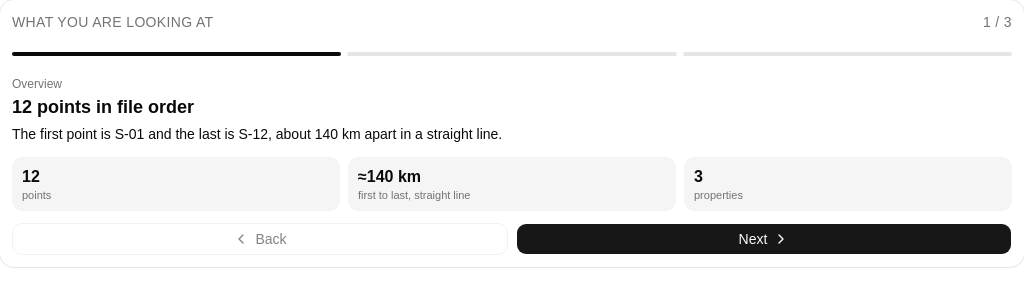
StoryPanel › cannot go back from the first chapter, and offers to start over after the last
This screenshot has width=1024, height=308.
Click the button "Next".
click(764, 239)  # box [516, 223, 1012, 255]
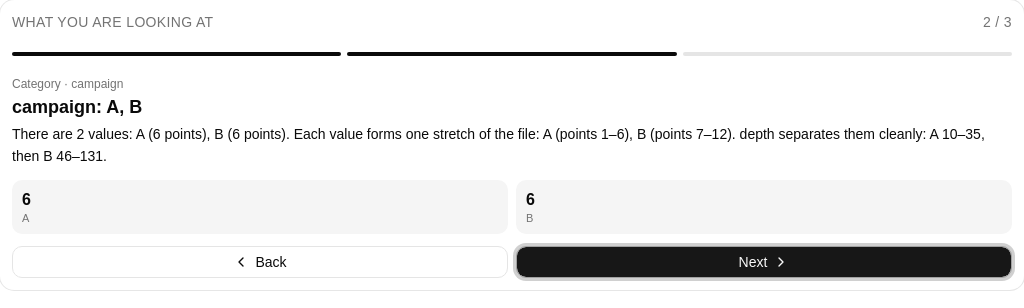
Click the button "Next".
click(764, 262)  # box [516, 246, 1012, 278]
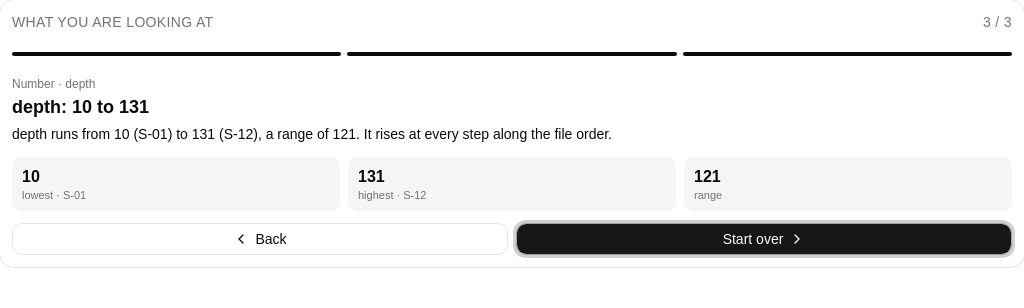
expect the text "3 / 3" is shown: met, box [983, 12, 1012, 32]
Click the button "Start over".
click(764, 239)  # box [516, 223, 1012, 255]
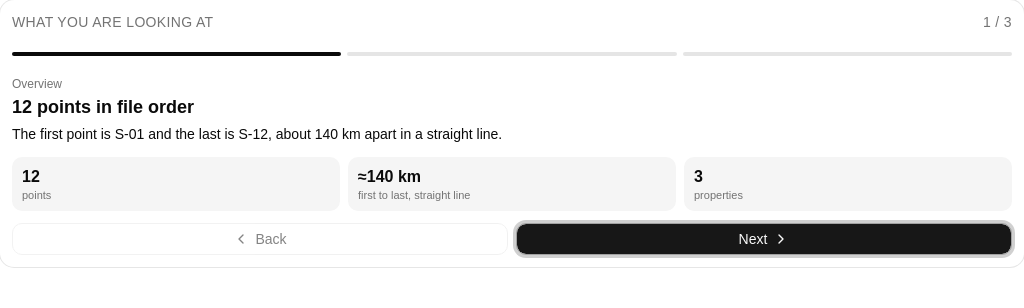
expect the text "1 / 3" is shown: met, box [983, 12, 1012, 32]
